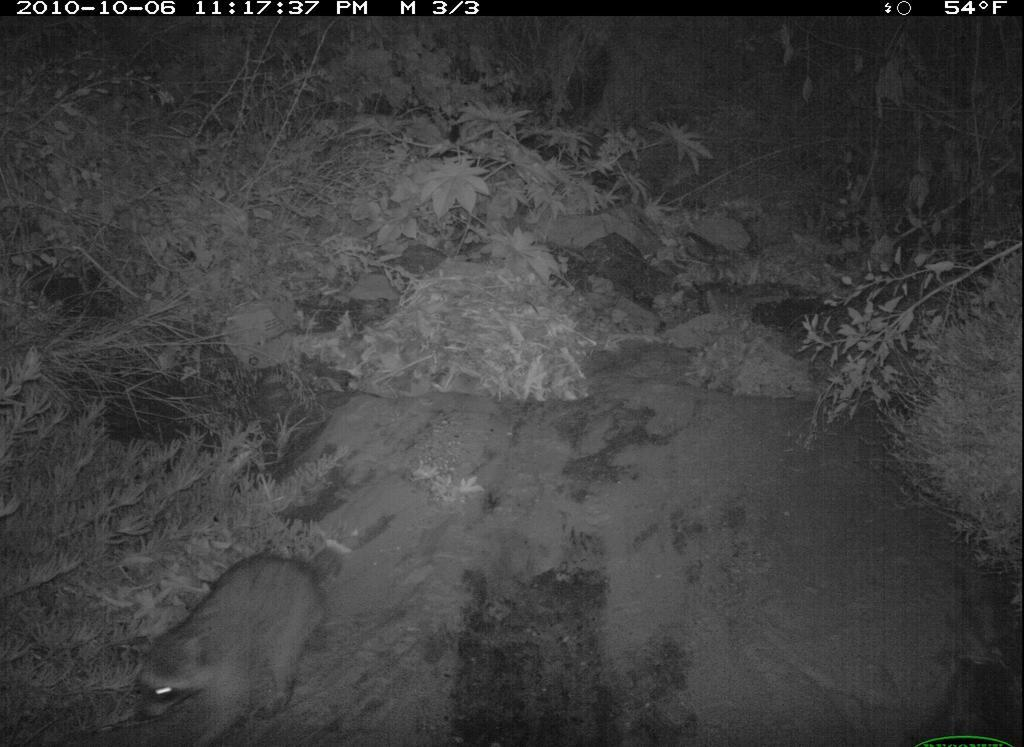raccoon: (127, 545, 340, 747)
